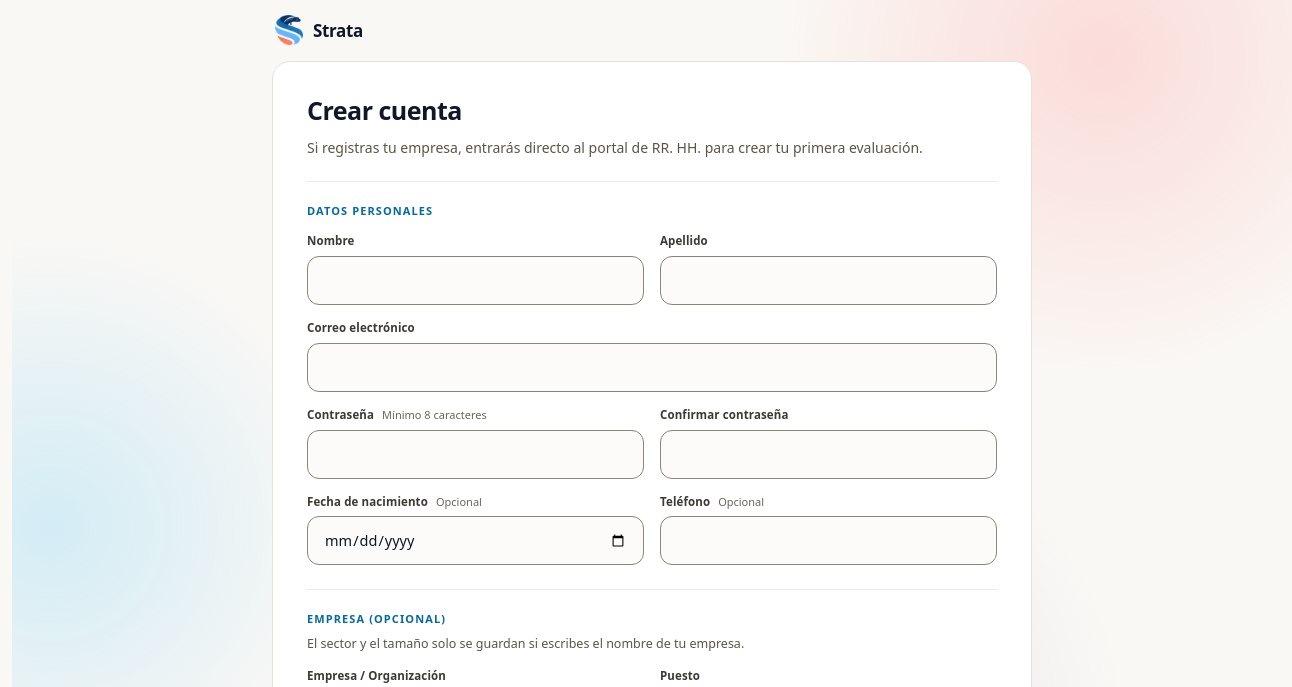
Registro › 422: cada mensaje en su campo, con ícono y aria-invalid; el foco va al primero y el error se quita al editar
In the field labelled "Nombre": (476, 280) top-left (308, 257), bottom-right (643, 304), type "Leo"
In the field labelled "Apellido": (828, 280) top-left (661, 257), bottom-right (996, 304), type "Ríos"
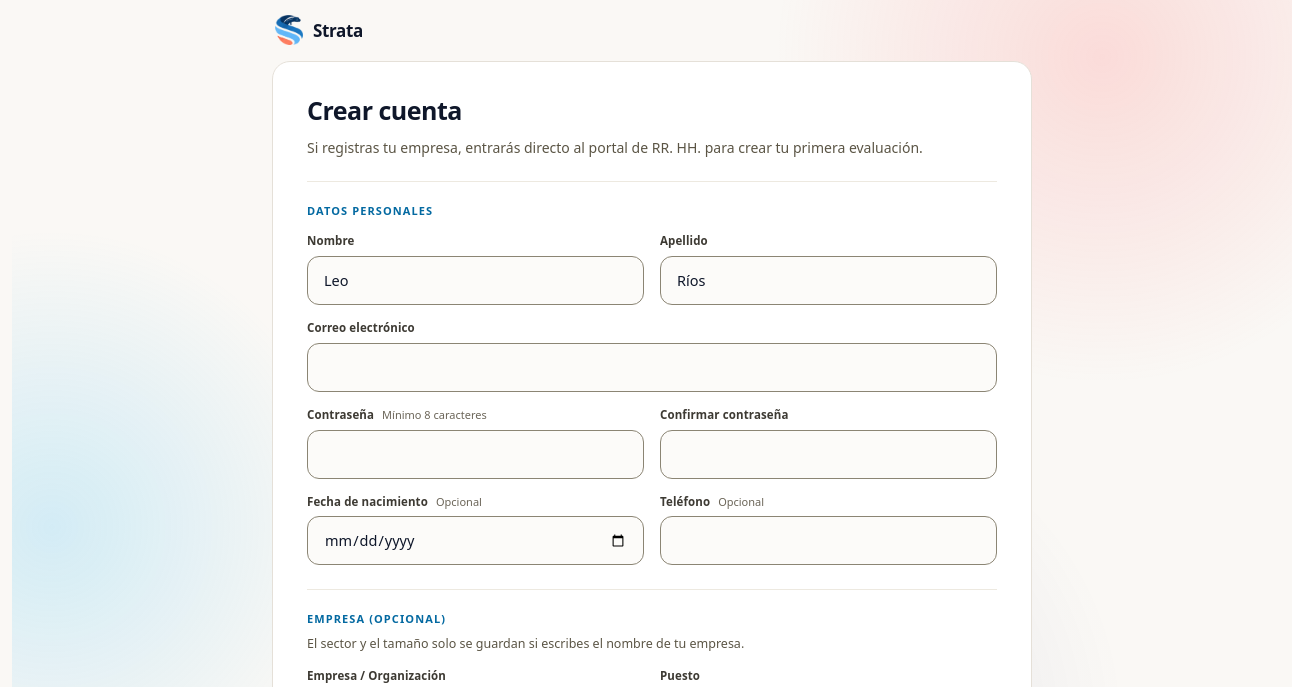
In the field labelled "Correo electrónico": (652, 367) top-left (308, 344), bottom-right (996, 391), type "leo@empresa.mx"
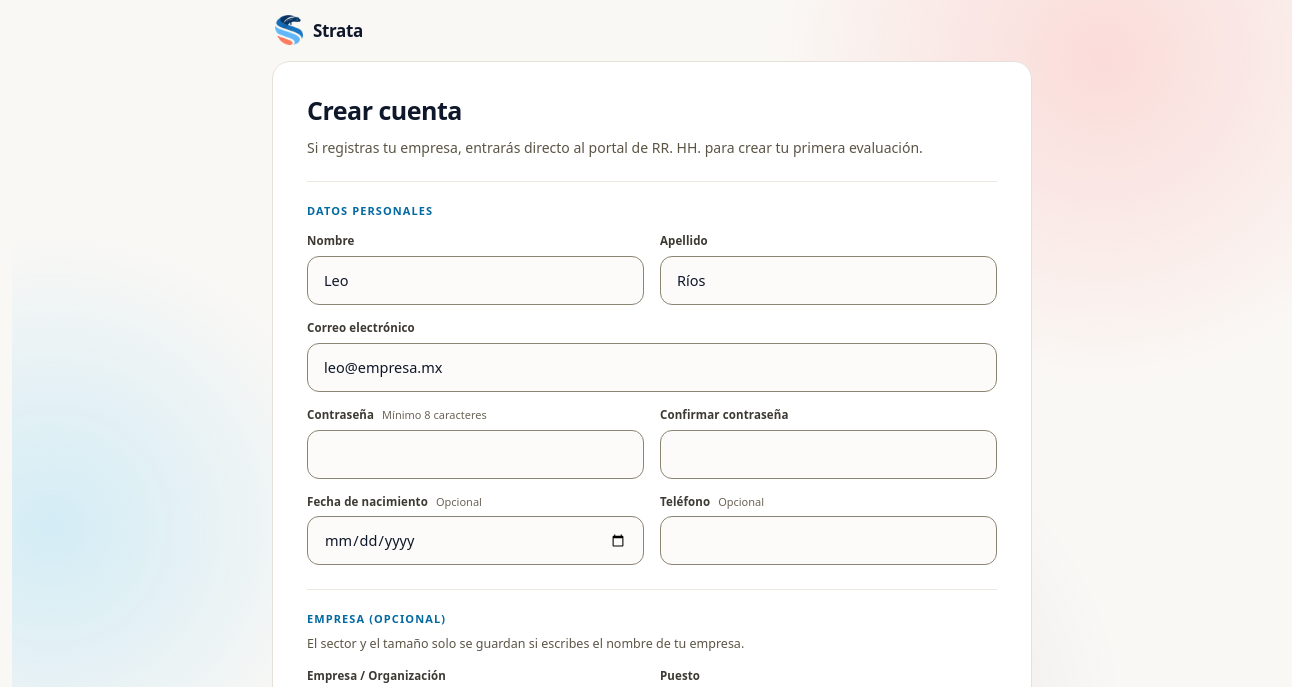
In the password field labelled "Contraseña": (476, 454) top-left (308, 431), bottom-right (643, 478), type "corta"
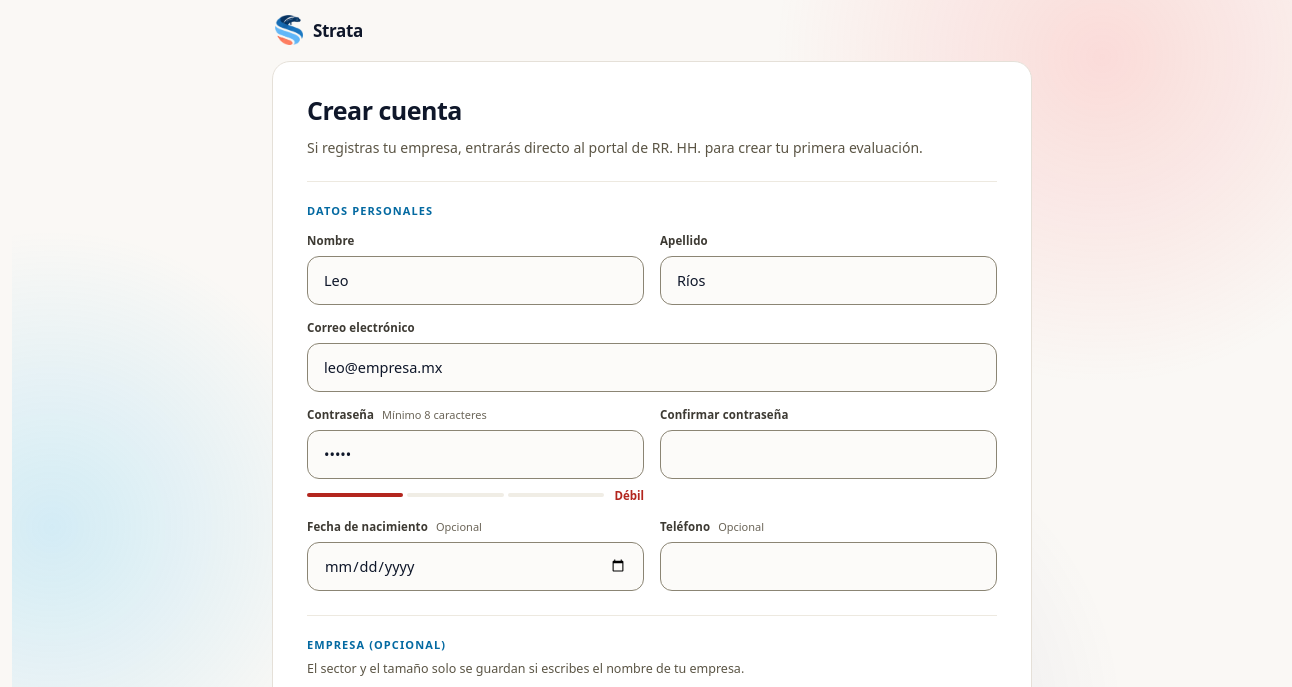
In the password field labelled "Confirmar contraseña": (828, 454) top-left (661, 431), bottom-right (996, 478), type "corta"
(page scrolled)
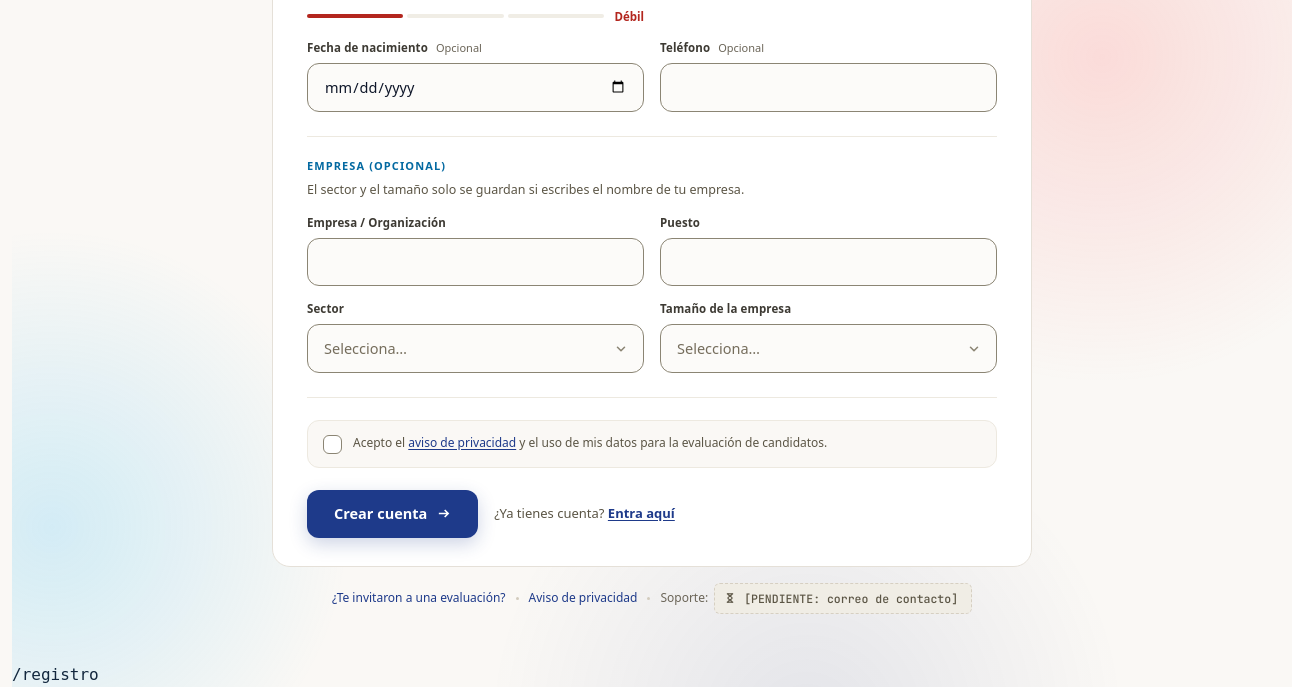
Click the button "Crear cuenta": (393, 514) top-left (307, 490), bottom-right (478, 538)
(page scrolled)
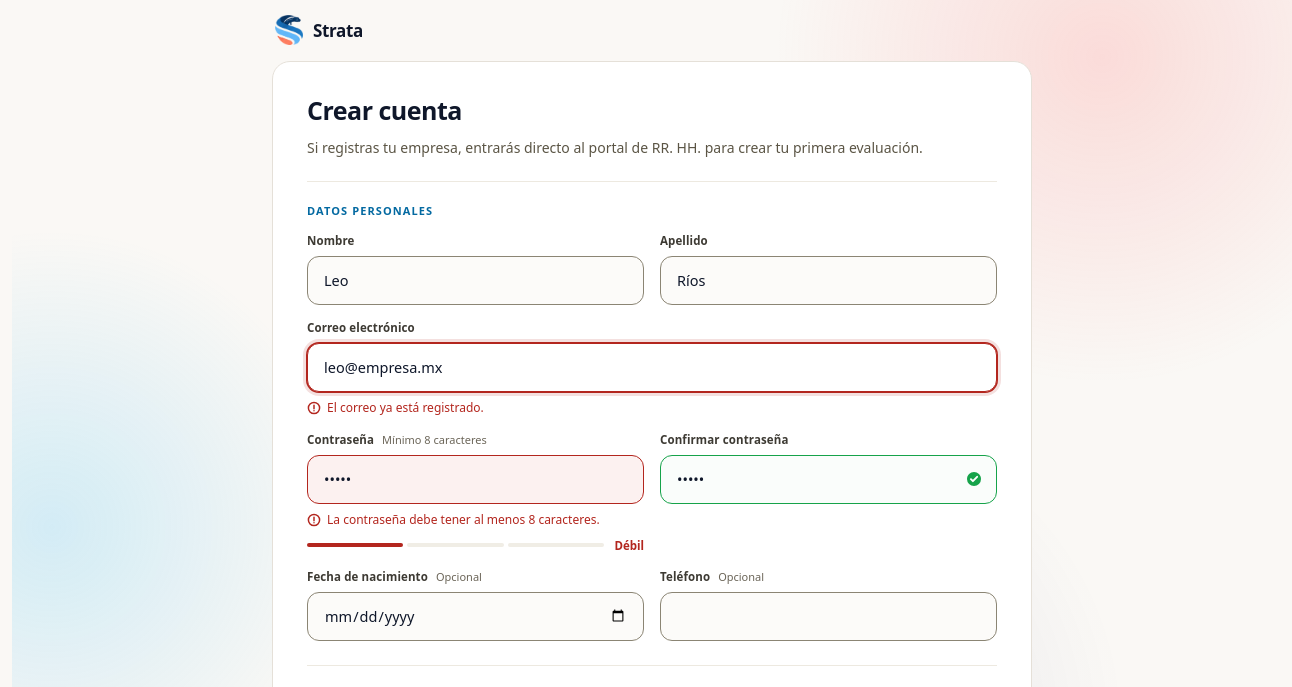
Now the text "El correo ya está registrado." is shown, box top-left (327, 399), bottom-right (484, 417)
In the field labelled "Correo electrónico": (652, 367) top-left (308, 344), bottom-right (996, 391), type "x"
(page scrolled)
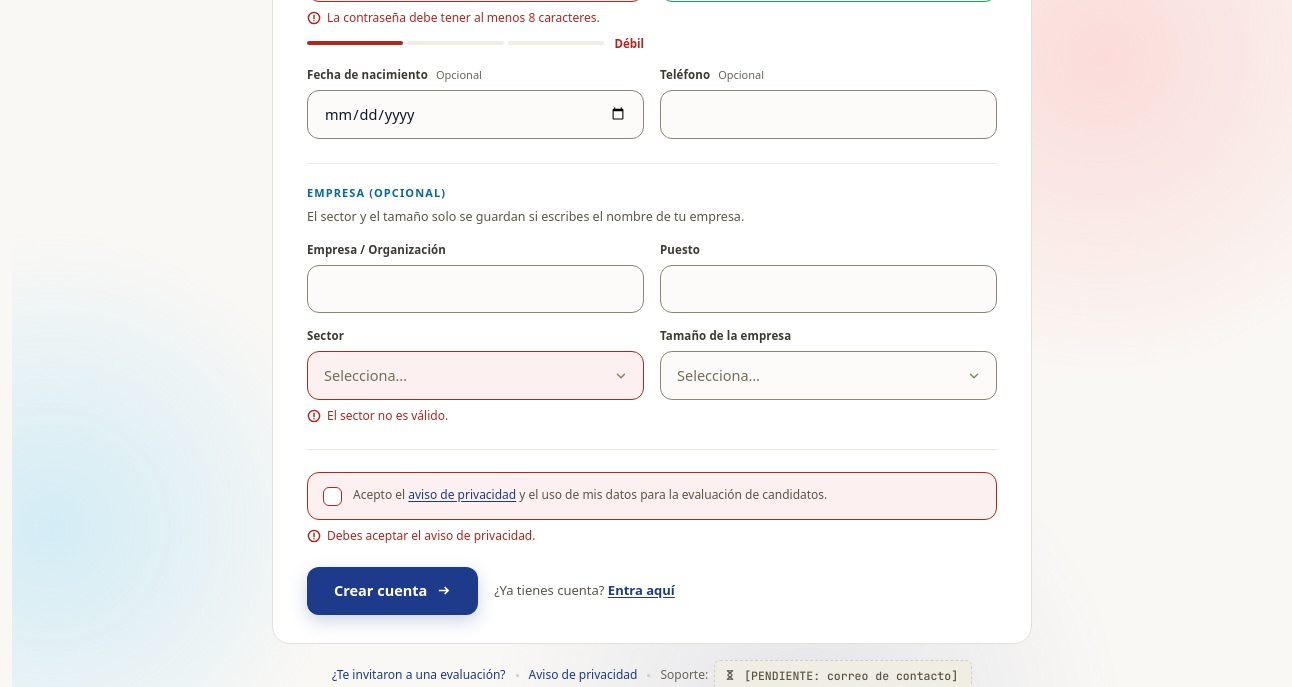
Now the text "El correo ya está registrado." is gone
